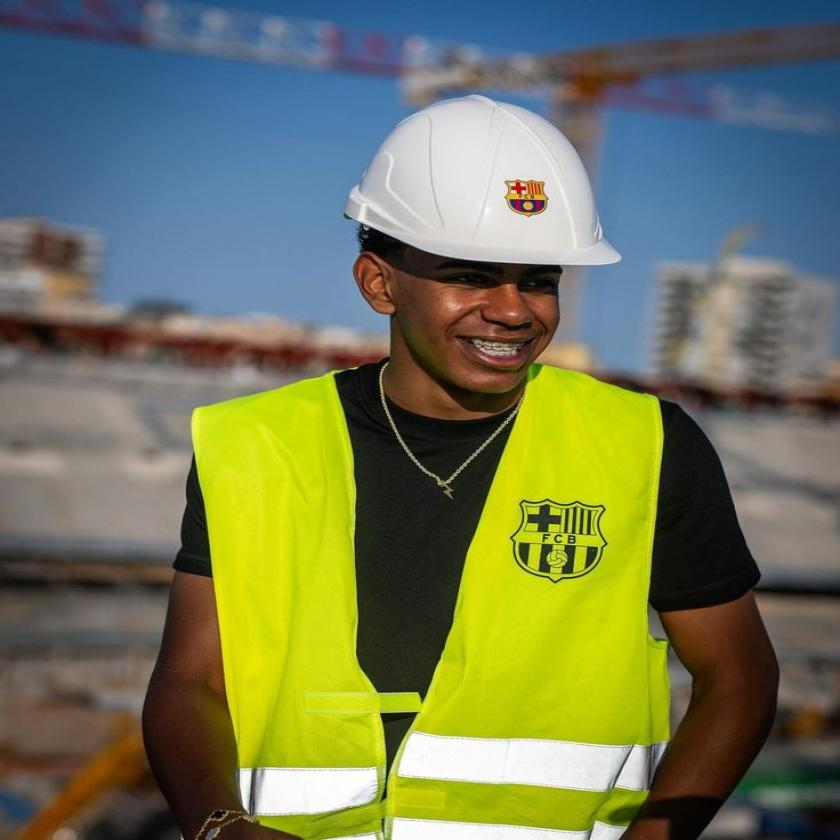Con_casco: (349, 91, 624, 416)
